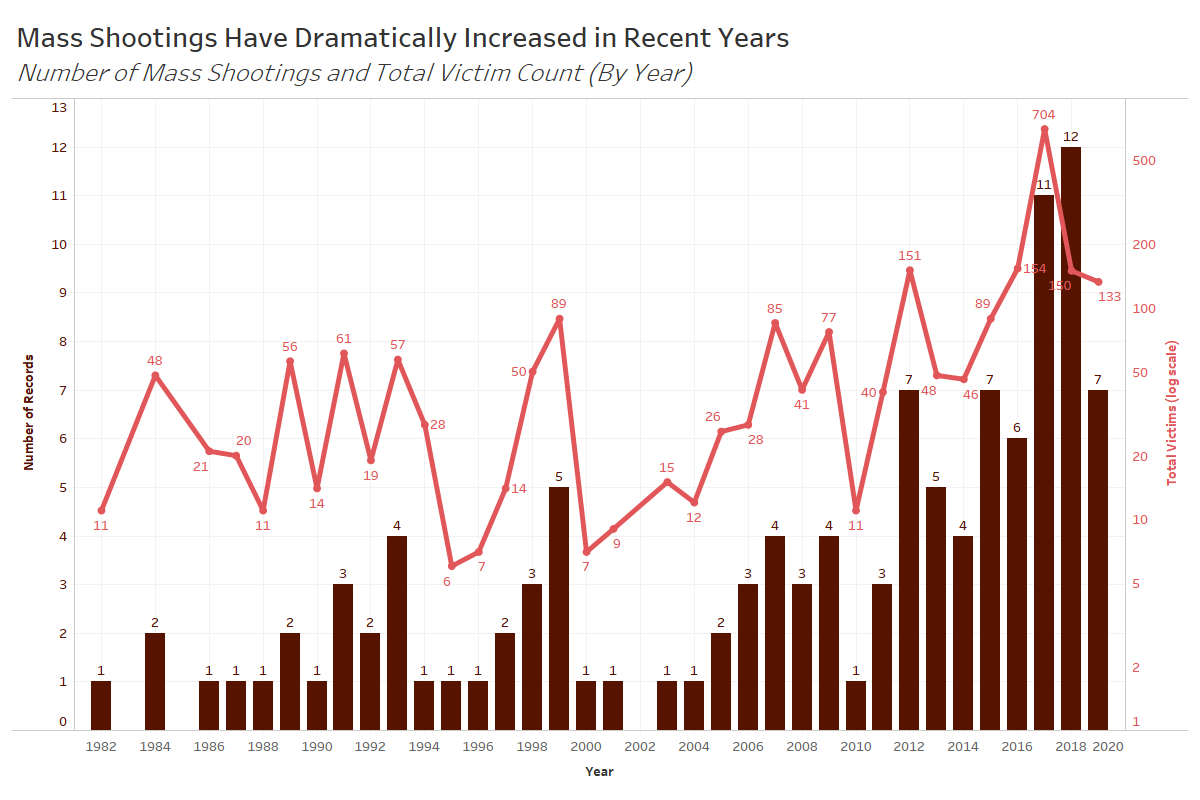

The page's visual inventory and layout, read from the dashboard file:
{"tool":"tableau","page":{"name":"Dashboard 1","canvas":[1200,800],"ordinal":0},"visuals":[{"type":"worksheet","title":"counts by year","mark":"Bar","rows":["Number of Records","total_victims"],"cols":["year"],"box":[8,8,1184,784]}]}

Visuals, with their boxes in screenshot pixels (x1, y1, x2, y2), scaled from the page's 1200x800 canvas onto the 1200x800 screenshot:
"counts by year" worksheet (Bar marks): {"x1": 8, "y1": 8, "x2": 1192, "y2": 792}
